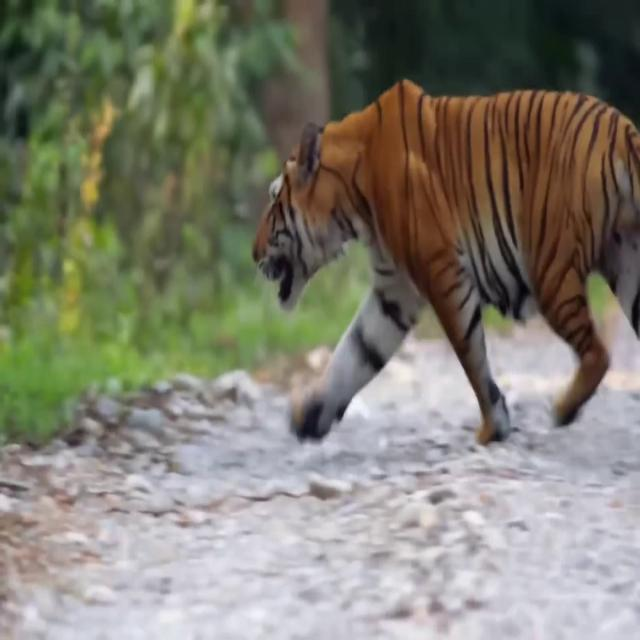tiger: (251, 74, 640, 445), (635, 442, 640, 444)
